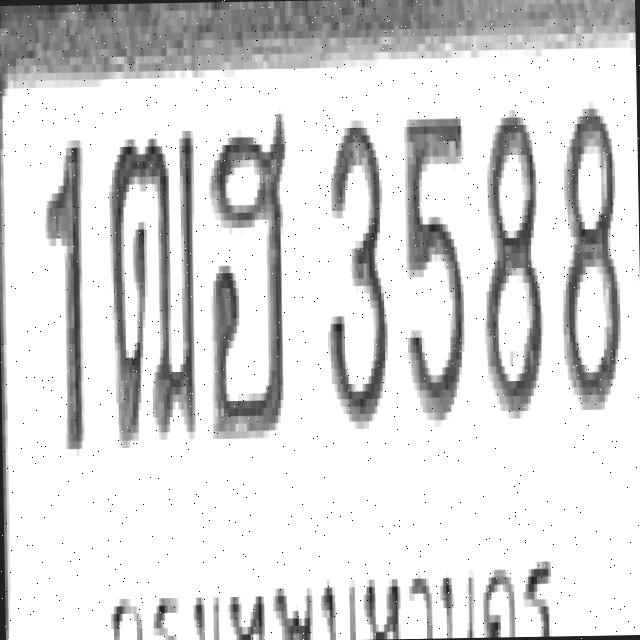1: (40, 132, 86, 457)
27ThorPhuThao: (104, 123, 198, 448)
3: (321, 112, 388, 429)
5: (400, 107, 468, 424)
53HorNokHook: (202, 110, 290, 443)
8: (556, 101, 622, 410), (480, 106, 542, 414)
